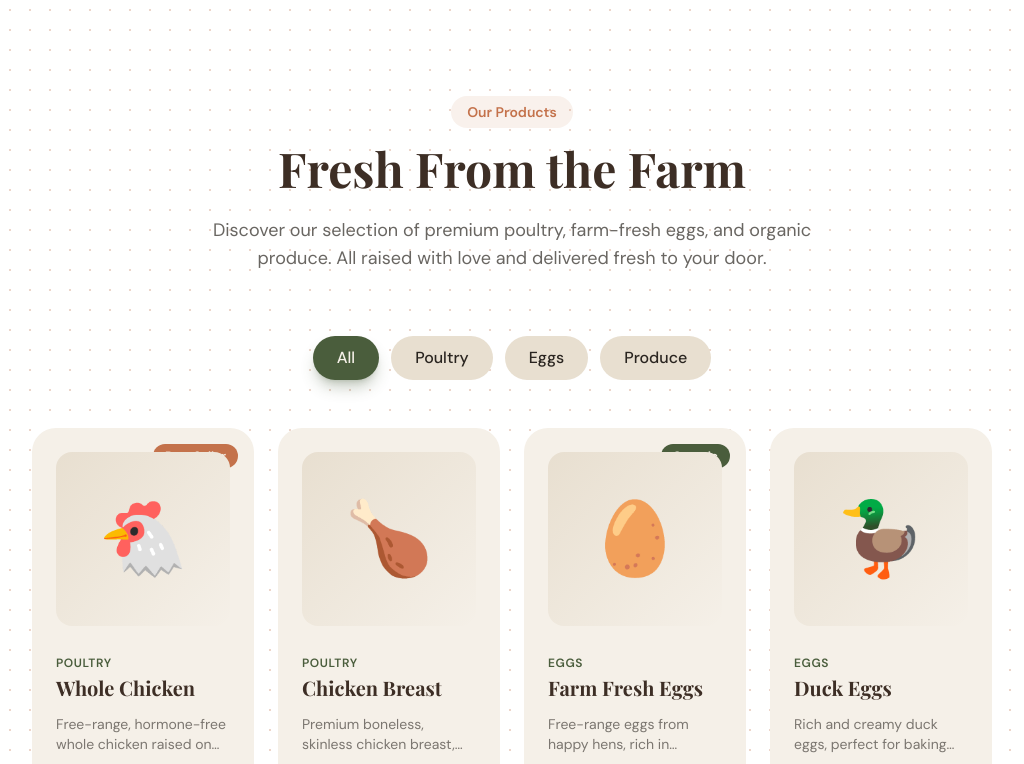
Scenario: Products › filters to produce only when Produce is clicked
Click the button "Produce" at x=656, y=358, box [600,336,711,380]
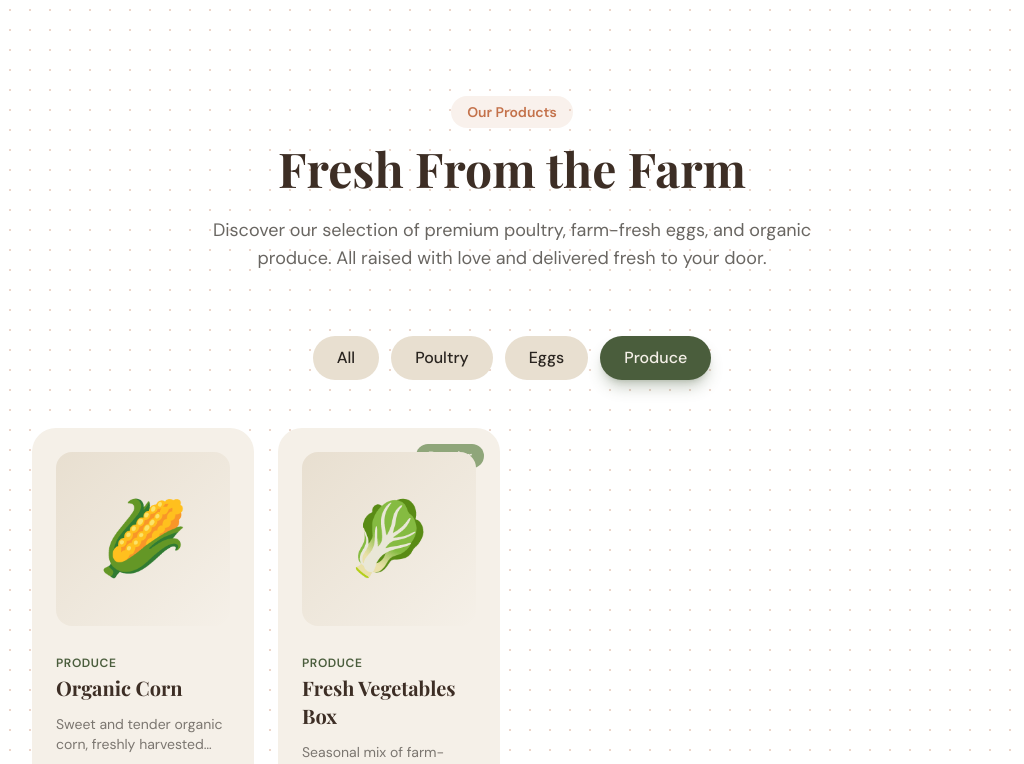
Check: the heading "Organic Corn" is shown, box [56,674,183,701]
Check: the heading "Whole Chicken" is gone
